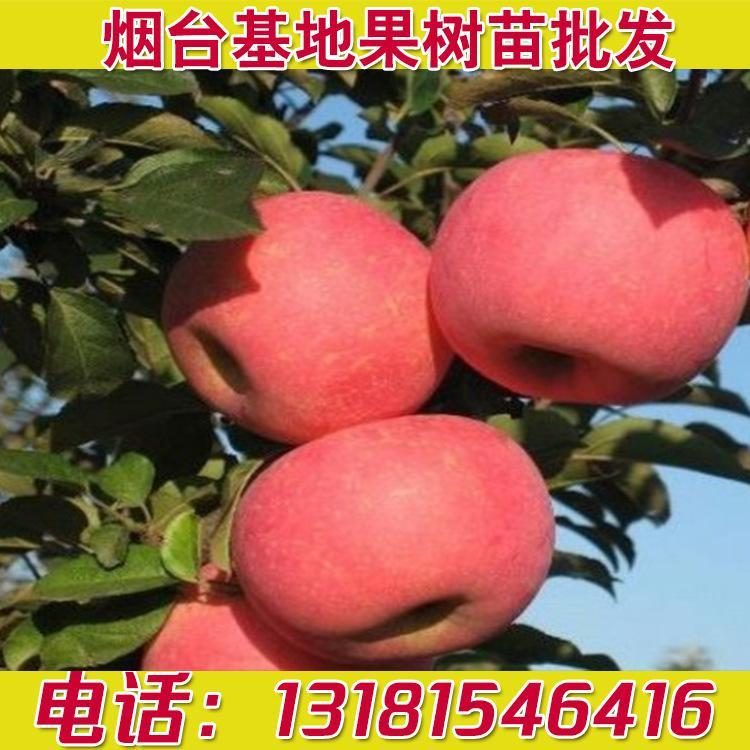apple: (226, 413, 554, 665), (435, 147, 747, 402), (159, 188, 454, 443)
